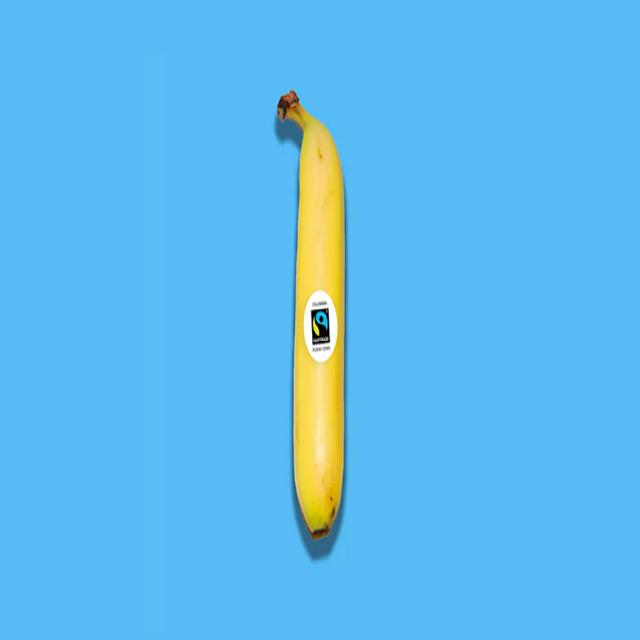banana: (273, 74, 357, 550)
